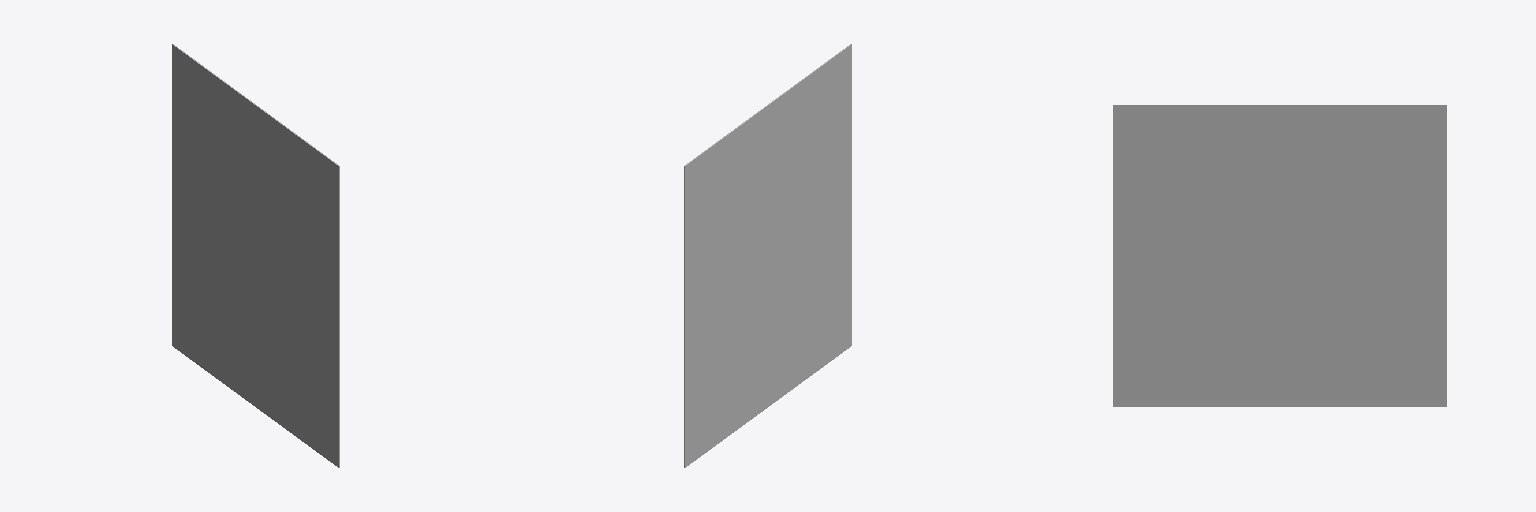
Rendered from wall1.obj.
3 renders of one model, left to right at view 1: azimuth 30°, elevation 25°; view 2: azimuth 150°, elevation 25°; view 3: azimuth 270°, elevation 25°, orthographic.
Visible parts, largest first — view 1: object 1; view 2: object 1; view 3: object 1.
Boxes of the visible parts, x1=… form: object 1: x1=172, y1=44, x2=339, y2=467; object 1: x1=684, y1=44, x2=851, y2=467; object 1: x1=1113, y1=105, x2=1446, y2=406.
Bounding box in the file's own units: 0.1 × 25.6 × 25.6.